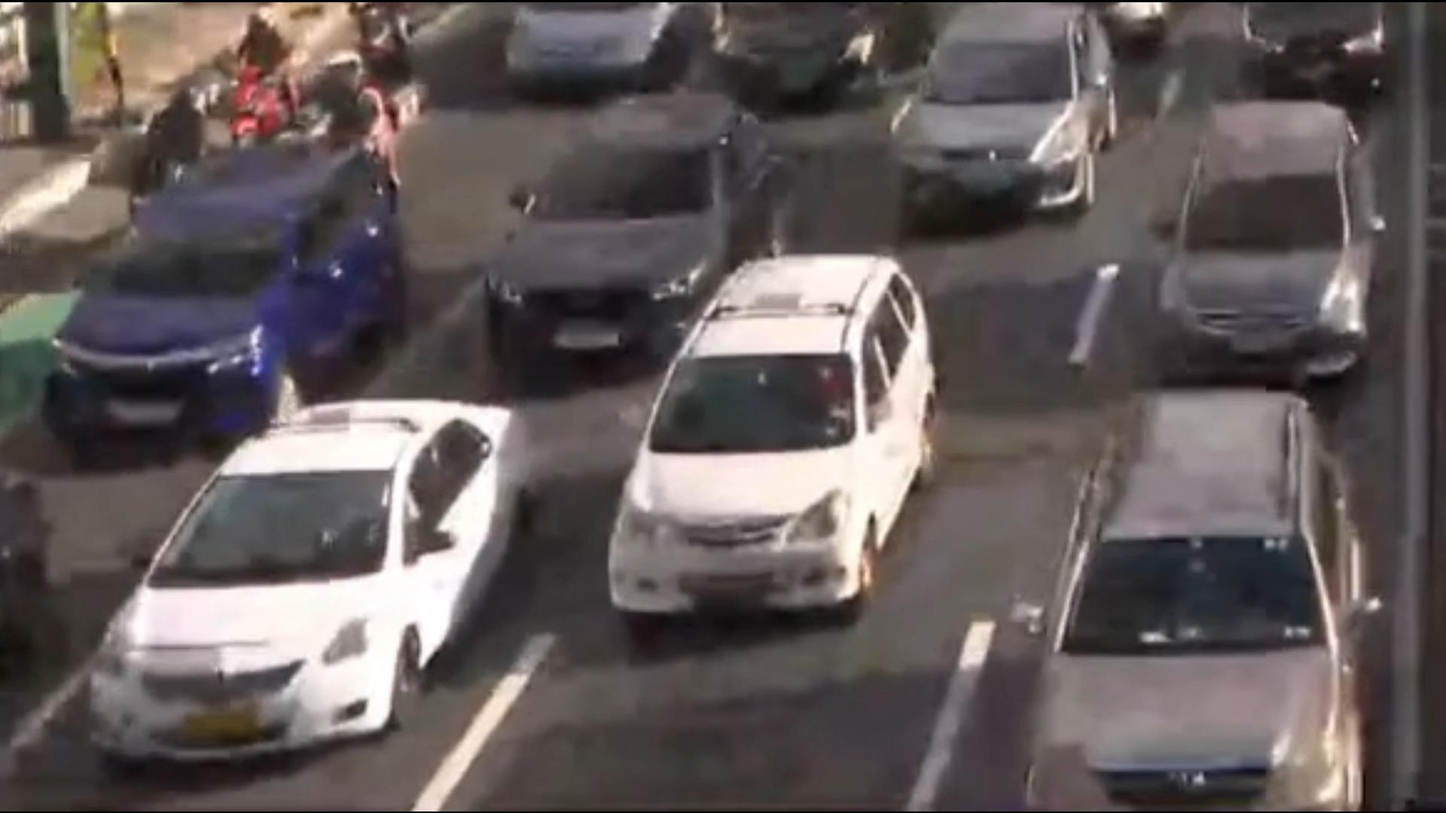Motorcycle: (305, 43, 410, 201), (226, 4, 299, 160)
SUV: (1015, 395, 1359, 813), (606, 258, 938, 623), (49, 139, 401, 455)
Sedan: (83, 399, 533, 758), (476, 87, 798, 373), (1137, 88, 1384, 406), (898, 8, 1107, 218)
